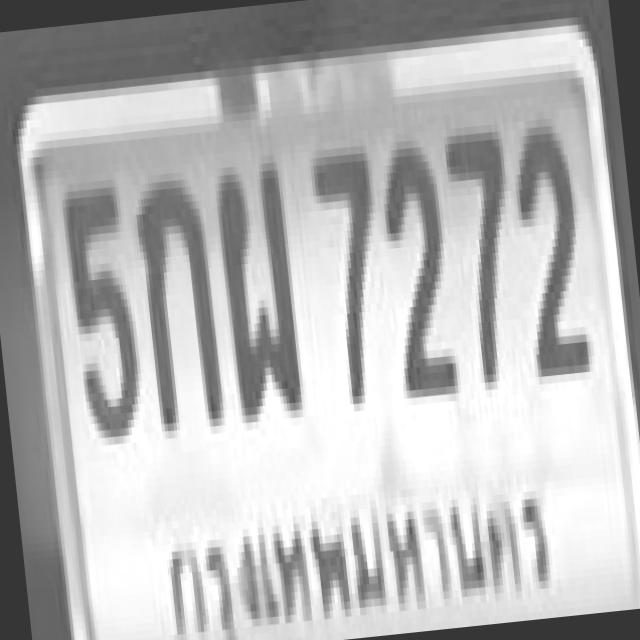10GorGai: (128, 162, 221, 424)
2: (375, 130, 456, 390), (507, 110, 588, 370)
37PhorPhueng: (208, 150, 302, 412)
5: (58, 172, 142, 440)
7: (438, 112, 523, 380), (305, 134, 387, 402)
Bangkok: (146, 457, 560, 640)
